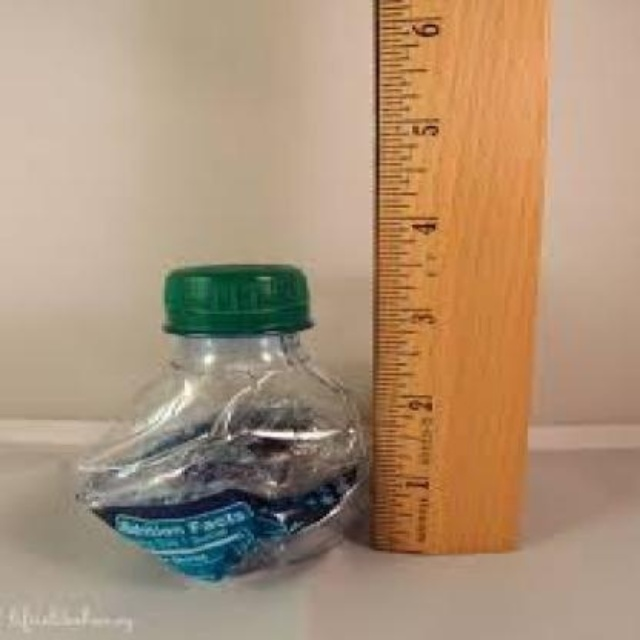trash: (77, 265, 366, 578)
